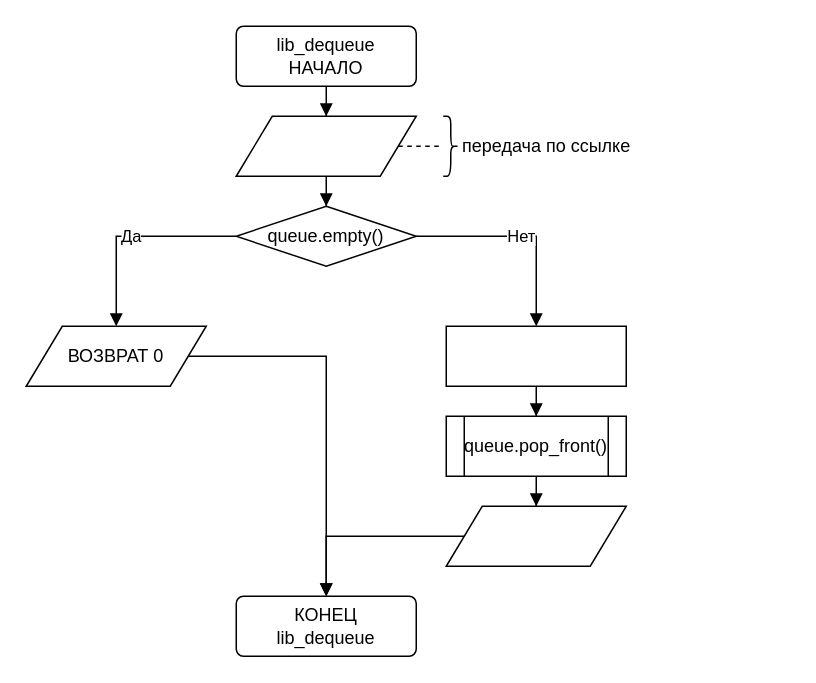
The diagram is 816 pixels wide and 683 high, and some of its shapes have lost their labels. Each missing label, with the centre of its shape:
"*value = queue.front()" goes at point (535, 355).
"ВОЗВРАТ 1" goes at point (535, 535).
"Указатель value" goes at point (325, 145).
